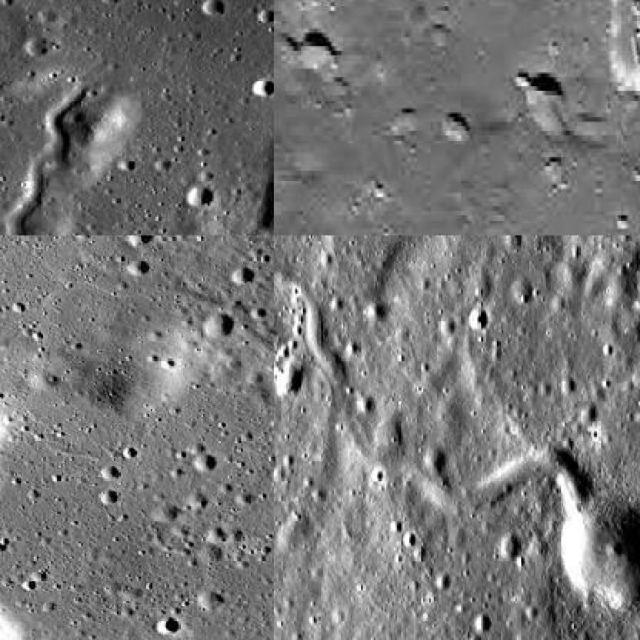rille: (274, 235, 595, 517), (364, 0, 638, 234), (121, 280, 272, 638), (3, 84, 97, 234)
